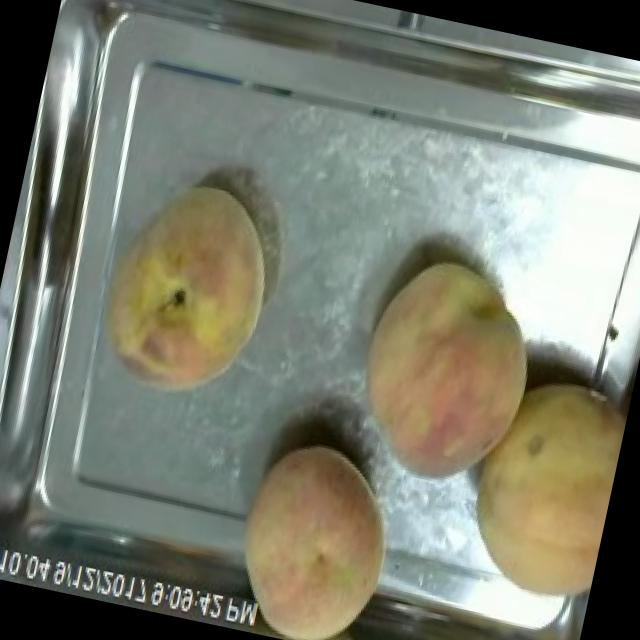Fruit: (334, 240, 560, 506), (78, 160, 293, 416), (438, 354, 634, 622), (212, 423, 417, 640)
